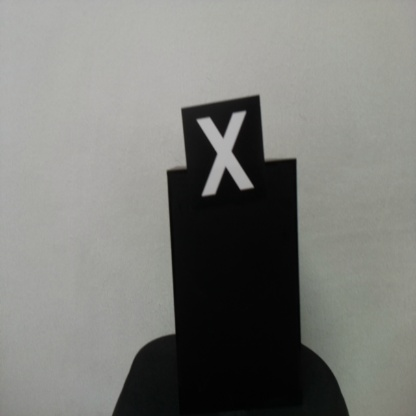id_13: (182, 107, 265, 209)
